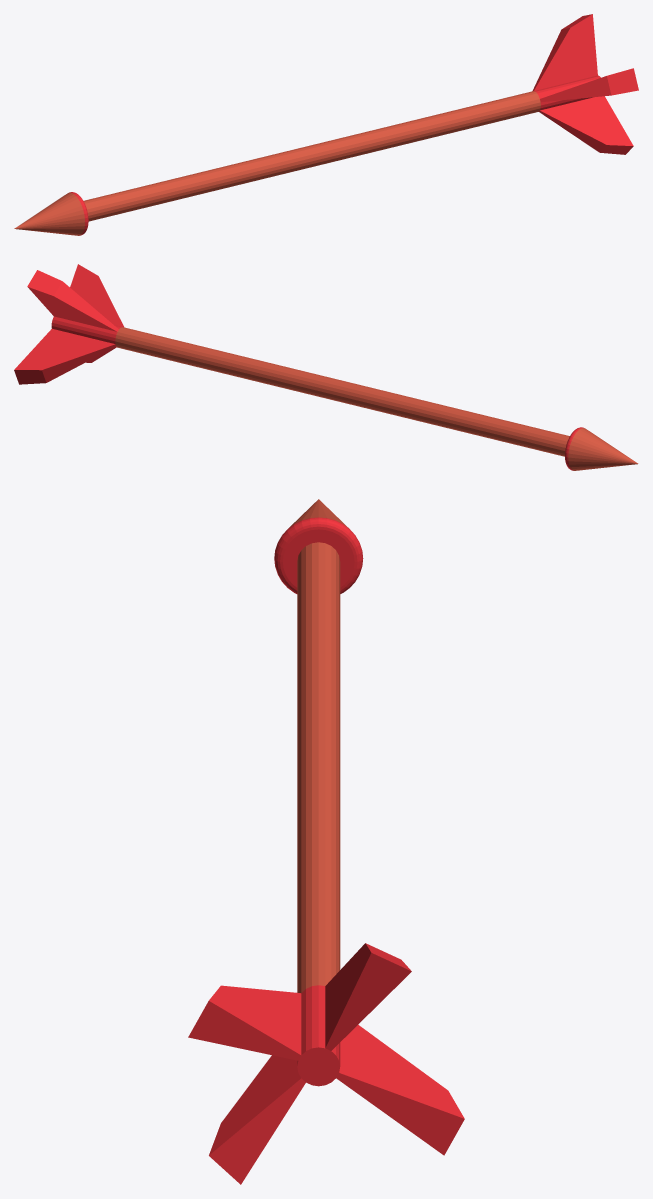
The model's file is Arrow.fbx.
3 views of the same model, one above another, from view 1: azimuth 30°, elevation 25°; view 2: azimuth 150°, elevation 25°; view 3: azimuth 270°, elevation 25° (orthographic). The views are drawn at different scales.
Parts seen in each view (by area): view 1: arew; view 2: arew; view 3: arew.
Boxes of the visible parts, left/top/right/bottom form: arew: left=14, top=14, right=638, bottom=235; arew: left=14, top=264, right=638, bottom=470; arew: left=188, top=499, right=464, bottom=1184.
Size of the model in its own units: 116 by 21.85 by 23.61.
